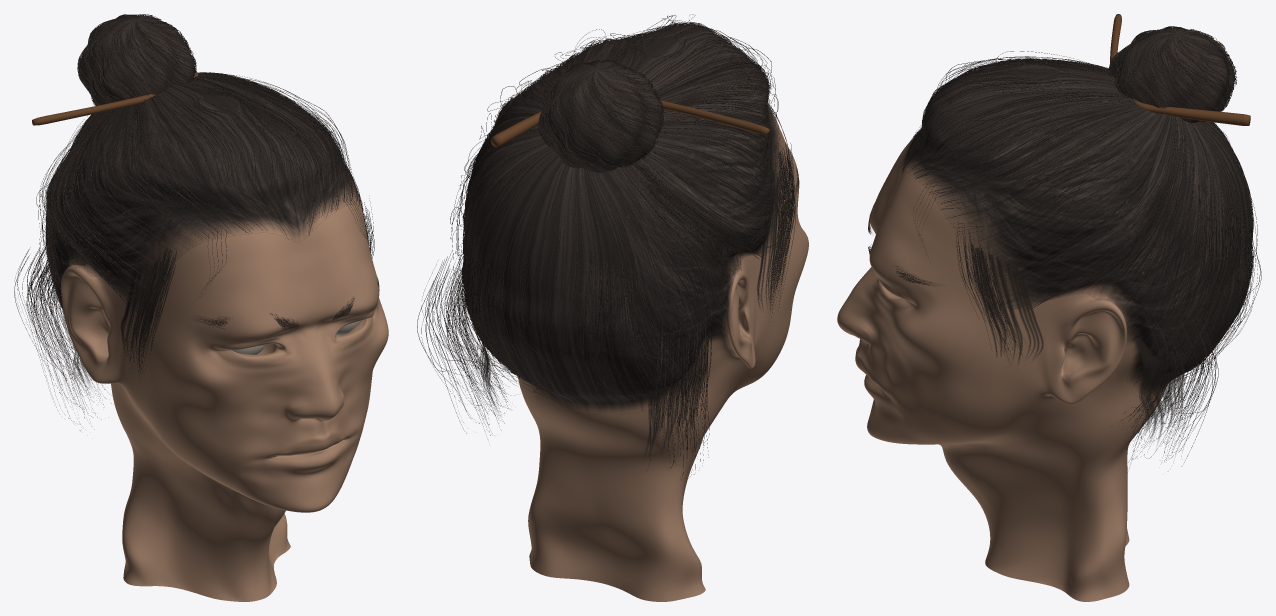
Rendered from ShenShang_Archive01.glb.
3 views of the same model, side by side, from view 1: azimuth 30°, elevation 25°; view 2: azimuth 150°, elevation 25°; view 3: azimuth 270°, elevation 25° (orthographic). The views are drawn at different scales.
Parts seen in each view (by area): view 1: ShenShang_Head, 束发主体 · 曲面与羽化发际, 后梳细丝与分束纹理, 发髻 · 非圆对称盘卷, 盘髻旋丝, 浮丝 · 冠顶与鬓侧, 颈后松发 · 交错垂落, 耳前鬓毛 · 向下渐疏, 细发际 · 随生长方向, 木簪 · 后斜贯髻, 双眉 · 内立外卧的独立细丝; view 2: 束发主体 · 曲面与羽化发际, 后梳细丝与分束纹理, ShenShang_Head, 发髻 · 非圆对称盘卷, 颈后松发 · 交错垂落, 盘髻旋丝, 浮丝 · 冠顶与鬓侧, 耳前鬓毛 · 向下渐疏, 木簪 · 后斜贯髻; view 3: ShenShang_Head, 束发主体 · 曲面与羽化发际, 后梳细丝与分束纹理, 浮丝 · 冠顶与鬓侧, 发髻 · 非圆对称盘卷, 盘髻旋丝, 颈后松发 · 交错垂落, 耳前鬓毛 · 向下渐疏, 木簪 · 后斜贯髻, 细发际 · 随生长方向, 颈后 · 1 · 0.
Part boxes in pixels (x1=…): ShenShang_Head: x1=61, y1=184, x2=388, y2=601; 束发主体 · 曲面与羽化发际: x1=47, y1=73, x2=361, y2=316; 后梳细丝与分束纹理: x1=45, y1=72, x2=357, y2=313; 发髻 · 非圆对称盘卷: x1=79, y1=15, x2=193, y2=109; 盘髻旋丝: x1=77, y1=14, x2=196, y2=112; 浮丝 · 冠顶与鬓侧: x1=36, y1=73, x2=356, y2=320; 颈后松发 · 交错垂落: x1=14, y1=247, x2=111, y2=430; 耳前鬓毛 · 向下渐疏: x1=123, y1=194, x2=374, y2=377; 细发际 · 随生长方向: x1=102, y1=171, x2=363, y2=315; 木簪 · 后斜贯髻: x1=32, y1=70, x2=198, y2=125; 双眉 · 内立外卧的独立细丝: x1=192, y1=278, x2=379, y2=329; 束发主体 · 曲面与羽化发际: x1=463, y1=24, x2=781, y2=412; 后梳细丝与分束纹理: x1=461, y1=22, x2=777, y2=406; ShenShang_Head: x1=463, y1=106, x2=808, y2=601; 发髻 · 非圆对称盘卷: x1=540, y1=61, x2=662, y2=172; 颈后松发 · 交错垂落: x1=417, y1=252, x2=711, y2=479; 盘髻旋丝: x1=537, y1=59, x2=664, y2=173; 浮丝 · 冠顶与鬓侧: x1=450, y1=14, x2=779, y2=410; 耳前鬓毛 · 向下渐疏: x1=764, y1=142, x2=795, y2=321; 木簪 · 后斜贯髻: x1=490, y1=100, x2=769, y2=147; ShenShang_Head: x1=837, y1=138, x2=1165, y2=601; 束发主体 · 曲面与羽化发际: x1=902, y1=61, x2=1251, y2=390; 后梳细丝与分束纹理: x1=903, y1=58, x2=1253, y2=385; 浮丝 · 冠顶与鬓侧: x1=907, y1=51, x2=1261, y2=397; 发髻 · 非圆对称盘卷: x1=1111, y1=28, x2=1235, y2=122; 盘髻旋丝: x1=1108, y1=26, x2=1236, y2=123; 颈后松发 · 交错垂落: x1=1110, y1=302, x2=1218, y2=467; 耳前鬓毛 · 向下渐疏: x1=955, y1=218, x2=1031, y2=362; 木簪 · 后斜贯髻: x1=1110, y1=14, x2=1250, y2=125; 细发际 · 随生长方向: x1=901, y1=128, x2=1066, y2=310; 颈后 · 1 · 0: x1=1133, y1=337, x2=1151, y2=434.
Bounding box in the file's own units: 0.2027 × 0.3496 × 0.2601.
Materials: 20 (5 with a texture image).
